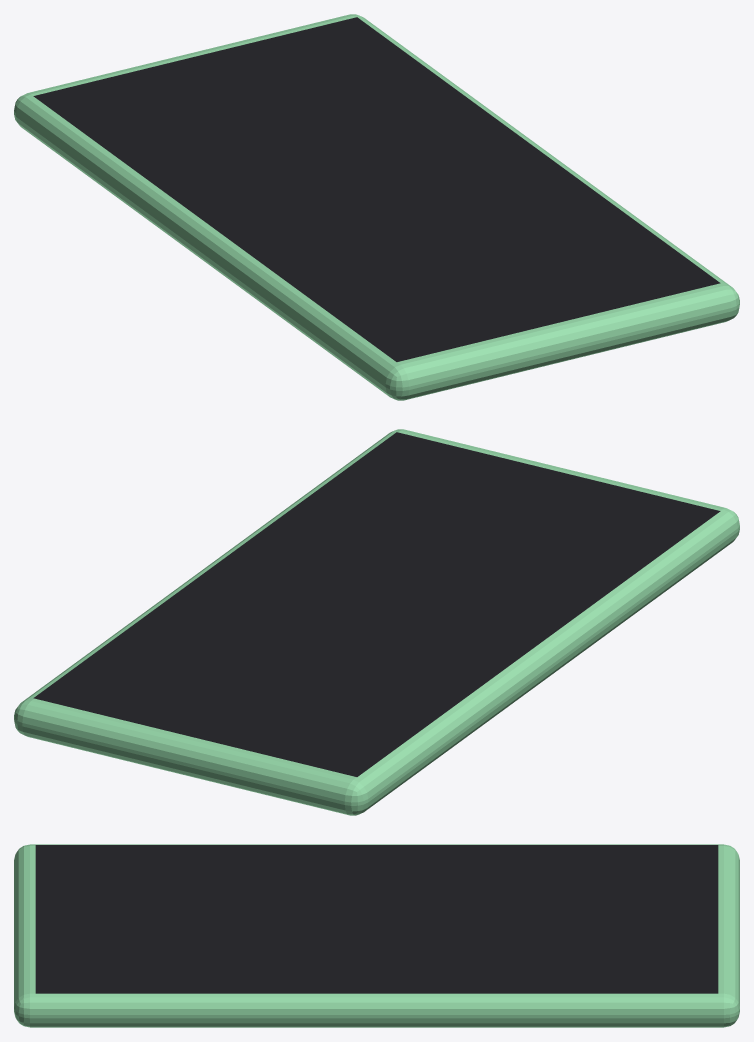
Rendered from Phone_185.glb.
The picture shows the model from 3 angles, top to bottom: view 1: azimuth 30°, elevation 25°; view 2: azimuth 150°, elevation 25°; view 3: azimuth 270°, elevation 25°; orthographic projection. The views are drawn at different scales.
Parts seen in each view (by area): view 1: Phone_Screen, Phone_Body; view 2: Phone_Screen, Phone_Body; view 3: Phone_Screen, Phone_Body.
Part boxes in pixels (bbox=[...]): Phone_Screen: bbox=[33, 17, 720, 361]; Phone_Body: bbox=[14, 14, 739, 400]; Phone_Screen: bbox=[33, 432, 720, 776]; Phone_Body: bbox=[14, 429, 739, 815]; Phone_Screen: bbox=[35, 845, 718, 993]; Phone_Body: bbox=[14, 844, 739, 1027].
Bounding box in the file's own units: 0.0767 × 0.0073 × 0.1459.
